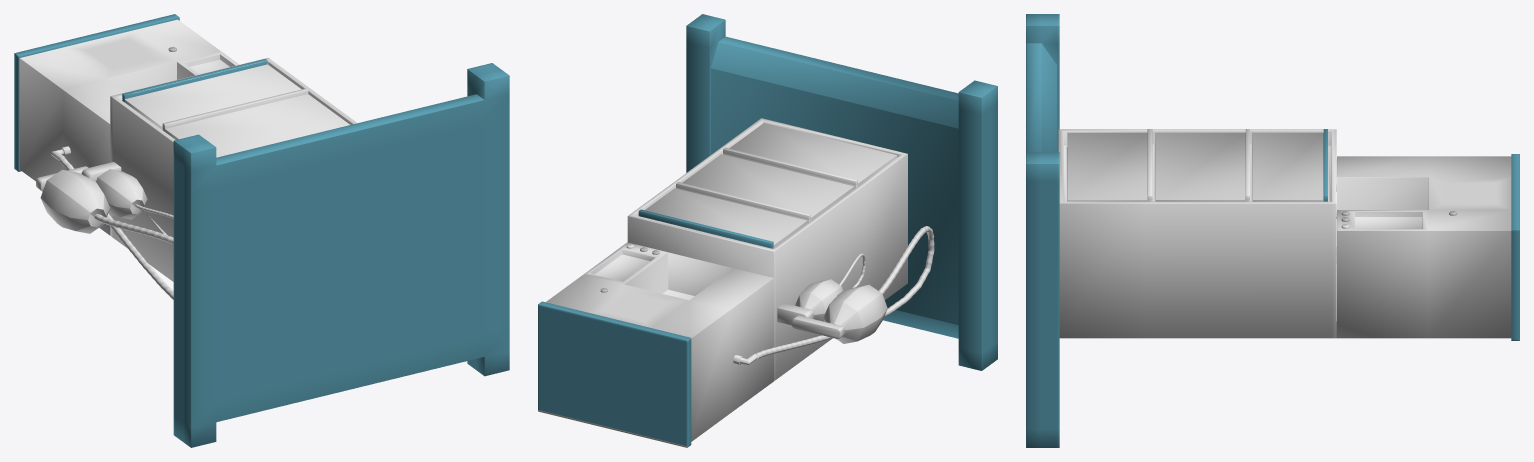
3 views of the same model, side by side, from view 1: azimuth 30°, elevation 25°; view 2: azimuth 150°, elevation 25°; view 3: azimuth 270°, elevation 25° (orthographic). The views are drawn at different scales.
Visible parts, largest first — view 1: Circle; view 2: Circle; view 3: Circle.
Boxes of the visible parts, x1,y1,x2,y2 form: Circle: (14,14,509,447); Circle: (538,14,997,447); Circle: (1026,14,1519,447).
Size of the model in its own units: 92.53 by 80.4 by 127.
